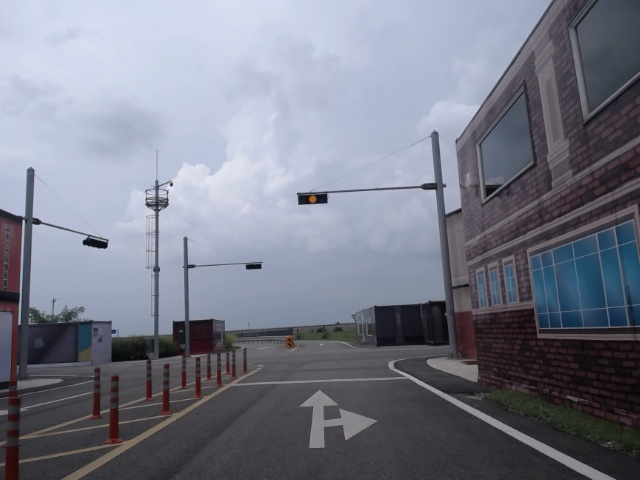orange_3: (298, 193, 328, 206)
